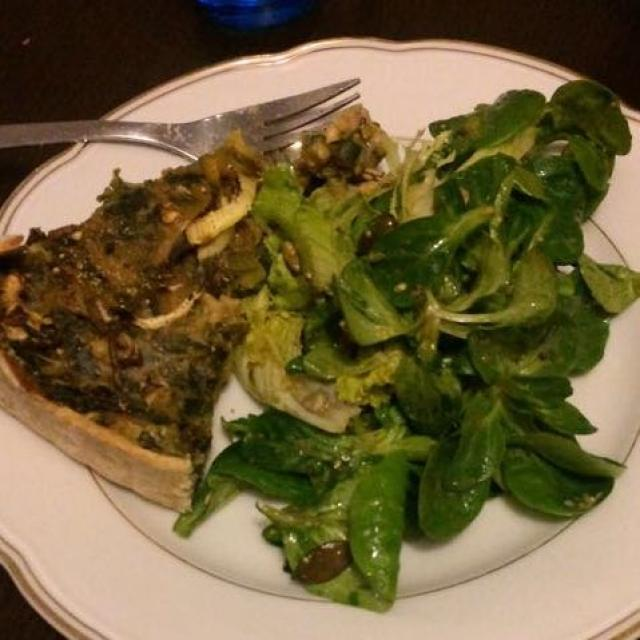salad: (209, 93, 622, 567)
vegetables-stuffed-pie: (8, 138, 285, 514)
